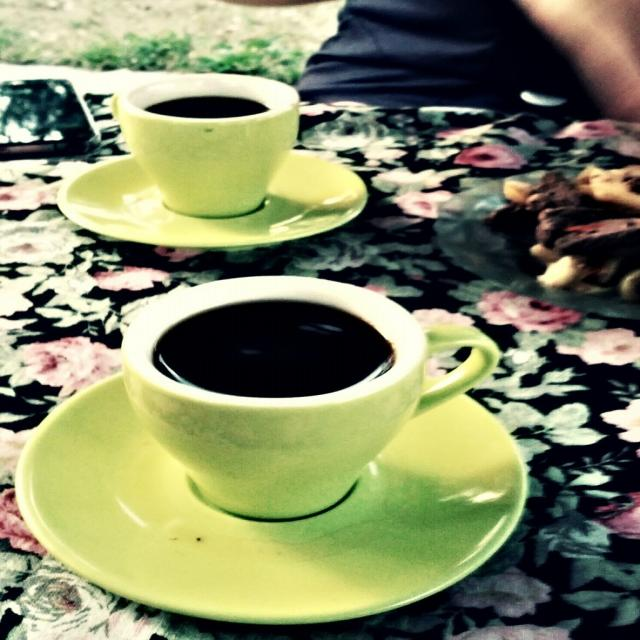Coffee: (101, 273, 498, 526), (146, 296, 403, 397), (141, 93, 267, 125)
Tea: (147, 300, 392, 396), (138, 96, 267, 120)
